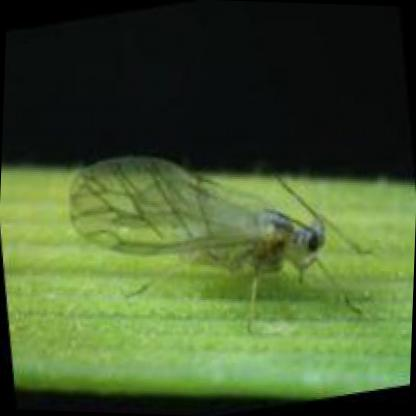schizaphis graminum: (67, 152, 327, 273)
